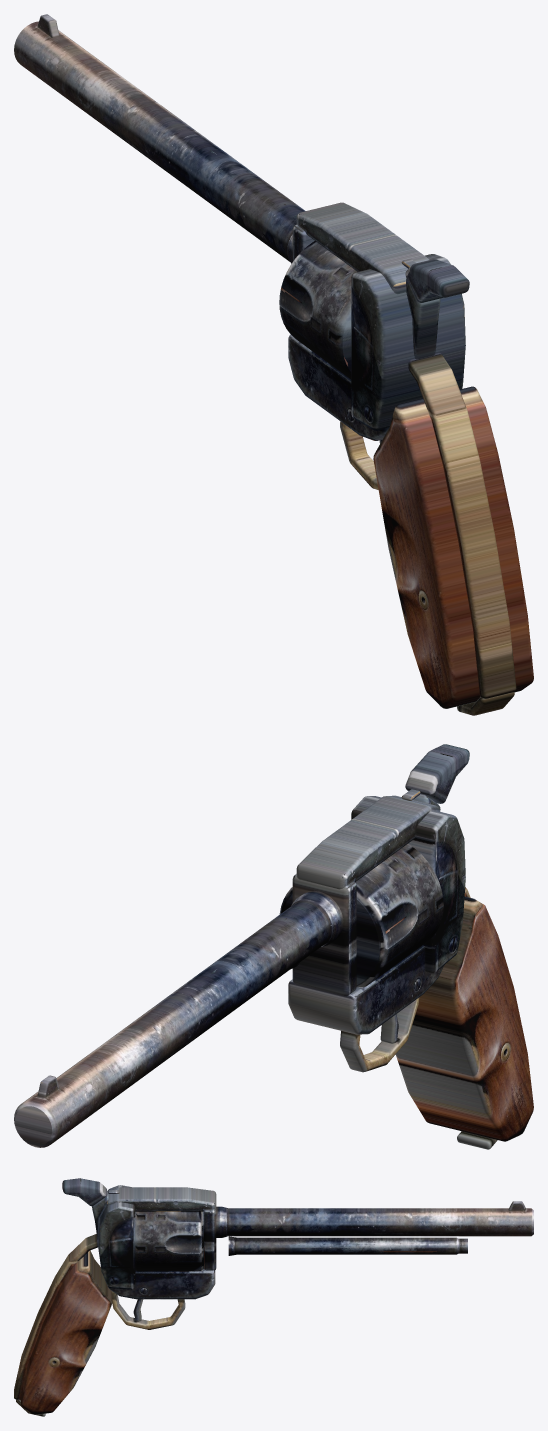
File: revolver.glb
3 renders of one model, top to bottom at view 1: azimuth 30°, elevation 25°; view 2: azimuth 150°, elevation 25°; view 3: azimuth 270°, elevation 25°, orthographic. The views are drawn at different scales.
Visible parts, largest first — view 1: Grip__Panels, Barrel, Grip__Backstrap, RecoilShield, Cylinder__Body, TopStrap, Frame, Hammer__Spur, Hammer__Body, Guard; view 2: Grip__Panels, Barrel, Cylinder__Body, TopStrap, Frame, RecoilShield, FrameFront, Hammer__Spur, Guard; view 3: Barrel, Grip__Panels, Cylinder__Body, EjectorHousing, RecoilShield, Frame, TopStrap, Grip__Backstrap, Guard, Hammer__Spur, FrameFront, Gate__Flap (+1 smaller).
Part boxes in pixels (x1,y1,x2,y2): Grip__Panels: [373, 386, 533, 708]; Barrel: [14, 21, 305, 263]; Grip__Backstrap: [408, 353, 516, 698]; RecoilShield: [351, 254, 465, 430]; Cylinder__Body: [279, 241, 357, 379]; TopStrap: [296, 202, 429, 294]; Frame: [288, 335, 389, 440]; Hammer__Spur: [405, 259, 469, 302]; Hammer__Body: [406, 278, 440, 359]; Guard: [340, 421, 378, 489]; Grip__Panels: [395, 896, 533, 1141]; Barrel: [14, 890, 343, 1147]; Cylinder__Body: [279, 844, 443, 987]; TopStrap: [296, 795, 440, 889]; Frame: [288, 945, 444, 1034]; RecoilShield: [351, 796, 465, 973]; FrameFront: [292, 874, 356, 996]; Hammer__Spur: [405, 744, 469, 803]; Guard: [340, 997, 419, 1072]; Barrel: [216, 1206, 533, 1237]; Grip__Panels: [21, 1250, 112, 1414]; Cylinder__Body: [134, 1211, 203, 1271]; EjectorHousing: [228, 1236, 458, 1255]; RecoilShield: [98, 1185, 135, 1289]; Frame: [108, 1269, 215, 1299]; TopStrap: [106, 1187, 216, 1211]; Grip__Backstrap: [14, 1234, 98, 1399]; Guard: [111, 1291, 185, 1329]; Hammer__Spur: [62, 1178, 106, 1206]; FrameFront: [204, 1209, 216, 1270]; Gate__Flap: [110, 1238, 131, 1267].
Bounding box in the file's own units: 0.042 × 0.1549 × 0.315.
Materials: 1 (1 with a texture image).
